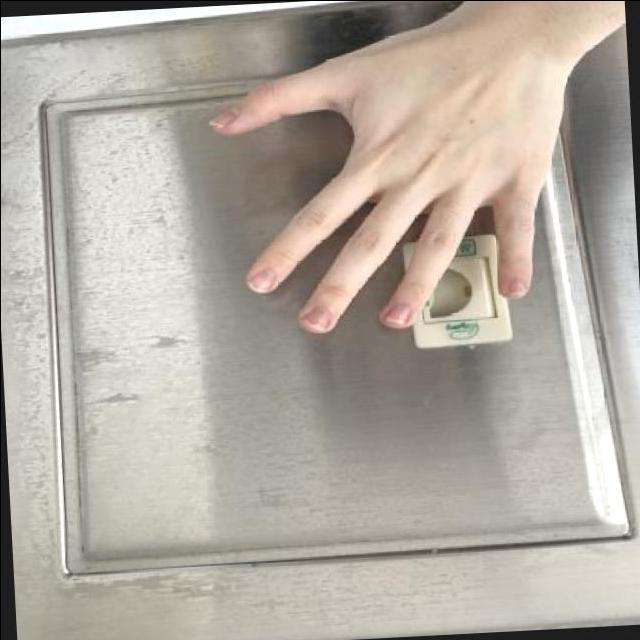hand: (195, 0, 601, 350)
